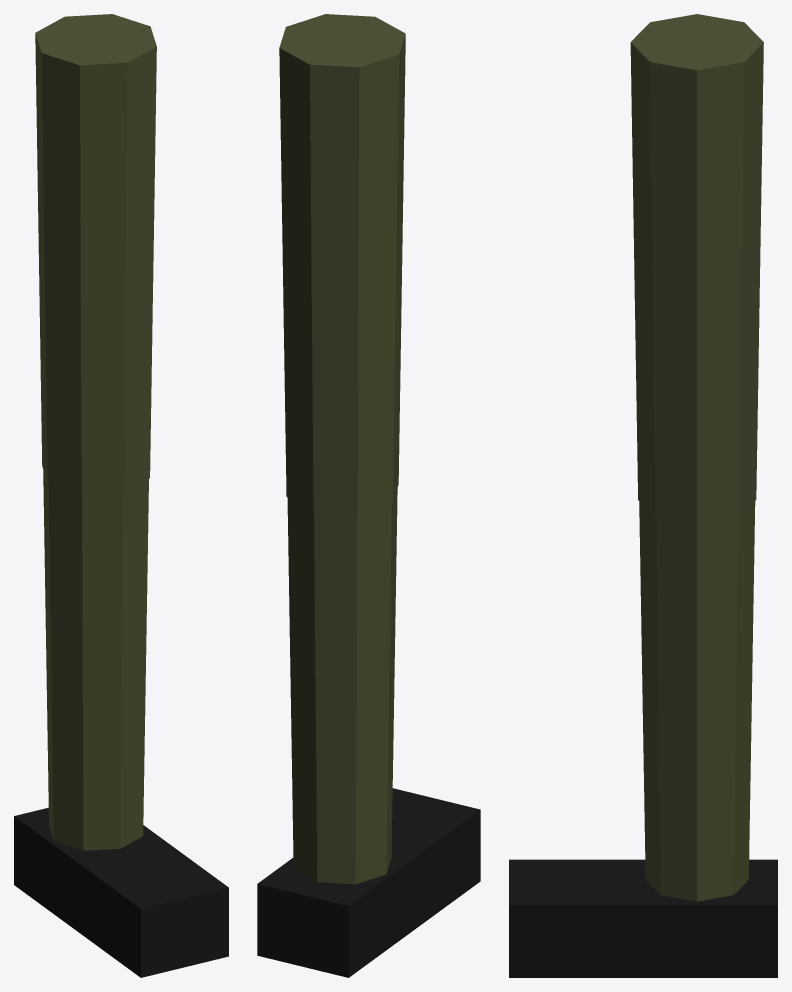
Rendered from PersonVaultLegR.obj.
3 renders of one model, left to right at view 1: azimuth 30°, elevation 25°; view 2: azimuth 150°, elevation 25°; view 3: azimuth 270°, elevation 25°, orthographic. The views are drawn at different scales.
Visible parts, largest first — view 1: PersonVaultLegR; view 2: PersonVaultLegR; view 3: PersonVaultLegR.
Part boxes in pixels (x1,y1,x2,y2): PersonVaultLegR: (14, 14, 228, 977); PersonVaultLegR: (257, 14, 480, 977); PersonVaultLegR: (509, 14, 777, 977).
Bounding box in the file's own units: 0.124 × 0.9375 × 0.25.
